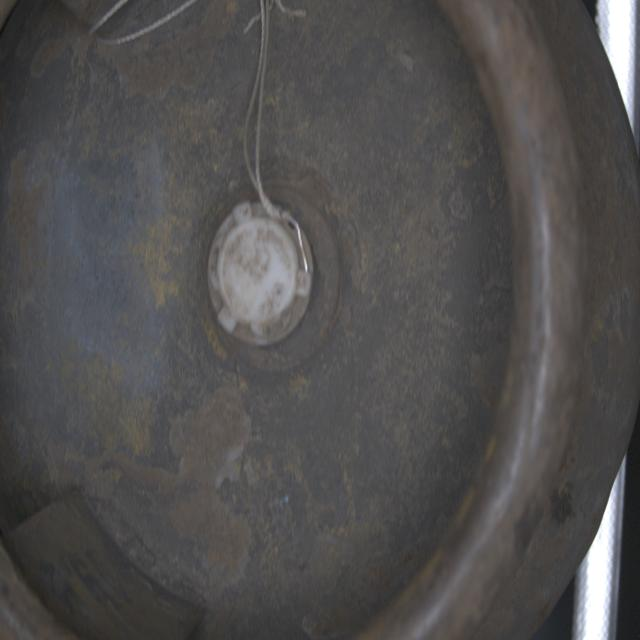Cap: (206, 201, 317, 351)
